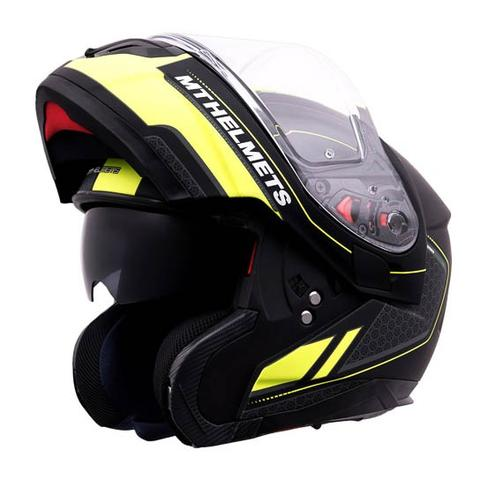helmet: (23, 22, 458, 456)
